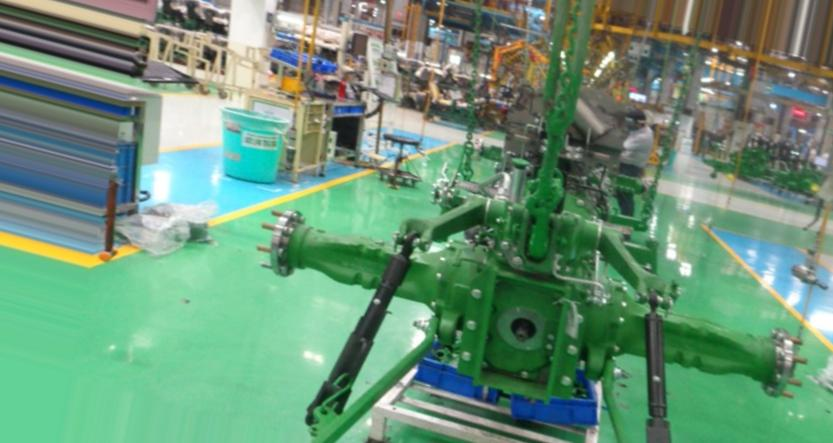engine: (256, 86, 805, 443)
